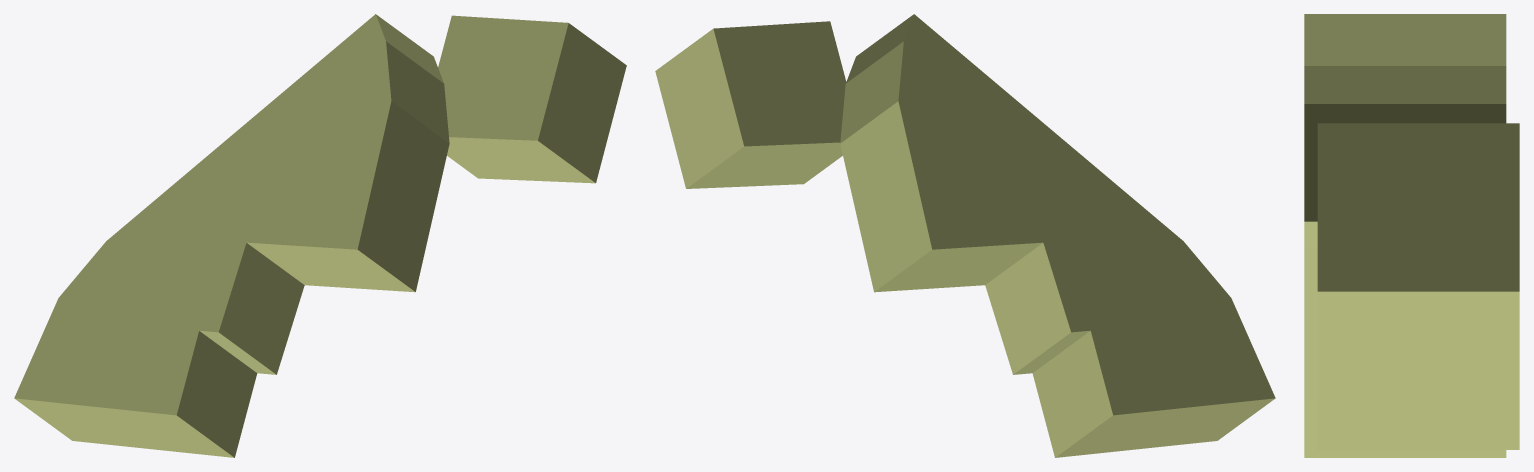
The picture shows the model from 3 angles, left to right: view 1: azimuth 30°, elevation 25°; view 2: azimuth 150°, elevation 25°; view 3: azimuth 270°, elevation 25°; orthographic projection. The views are drawn at different scales.
Parts seen in each view (by area): view 1: 0_1_0_0_1_3_1_1_0; view 2: 0_1_0_0_1_3_1_1_0; view 3: 0_1_0_0_1_3_1_1_0.
Part boxes in pixels (x1=…): 0_1_0_0_1_3_1_1_0: x1=14, y1=14, x2=626, y2=457; 0_1_0_0_1_3_1_1_0: x1=655, y1=14, x2=1275, y2=457; 0_1_0_0_1_3_1_1_0: x1=1304, y1=14, x2=1519, y2=457.
Bounding box in the file's own units: 33.26 × 20.08 × 6.4.
